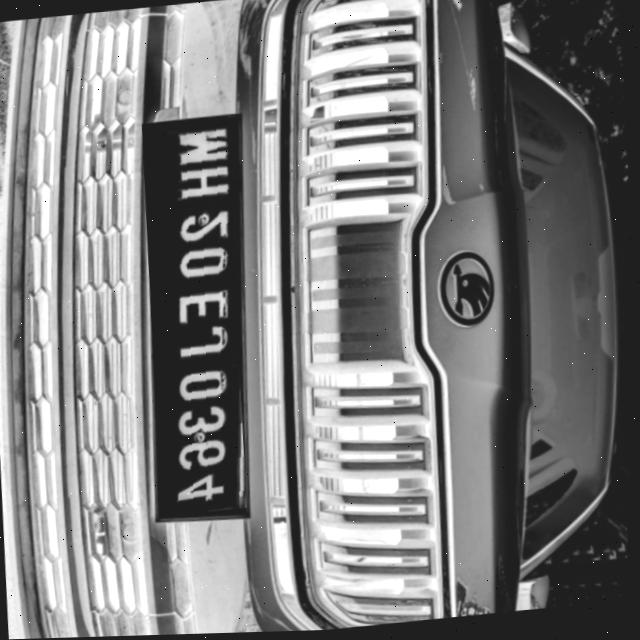Non_registered: (134, 116, 254, 518)
